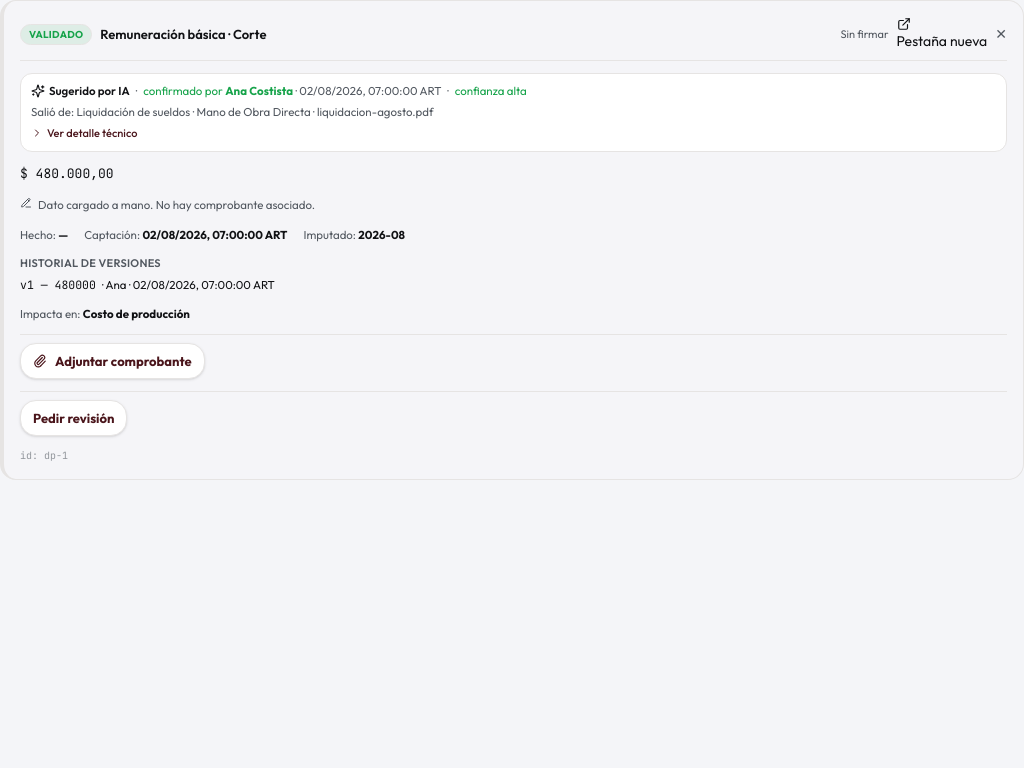
ficha del dato — procedencia IA (T-06) › el detalle técnico viene PLEGADO y nunca dice "Layer N"
Expected: the text "CUIT de AFIP en el encabezado" is not shown
Click the button "Ver detalle técnico" at (84, 133), box [31,124,137,141]
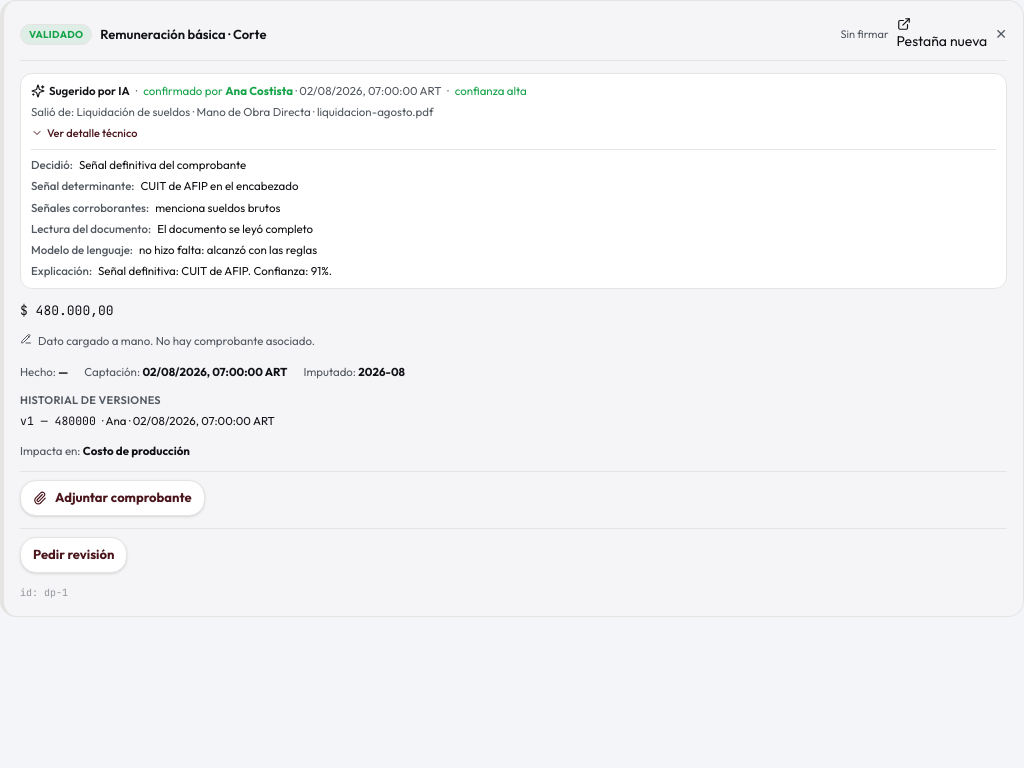
Expected: the text "CUIT de AFIP en el encabezado" is shown, [140,177,298,195]
Expected: the text "Señal definitiva del comprobante" is shown, [79,156,246,173]
